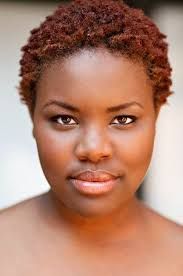bare: (34, 134, 153, 215)
